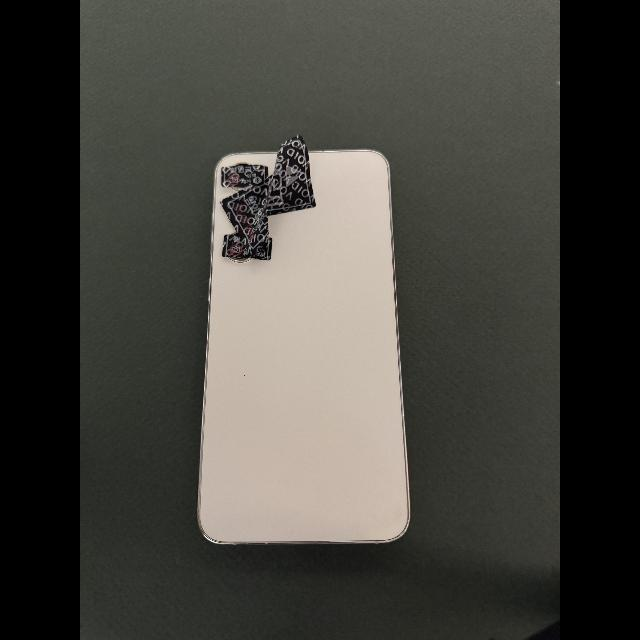lens: (229, 257, 250, 261), (235, 163, 251, 165)
phone: (197, 150, 412, 545)
sticker: (220, 135, 316, 256), (222, 234, 272, 261), (221, 165, 269, 188)
